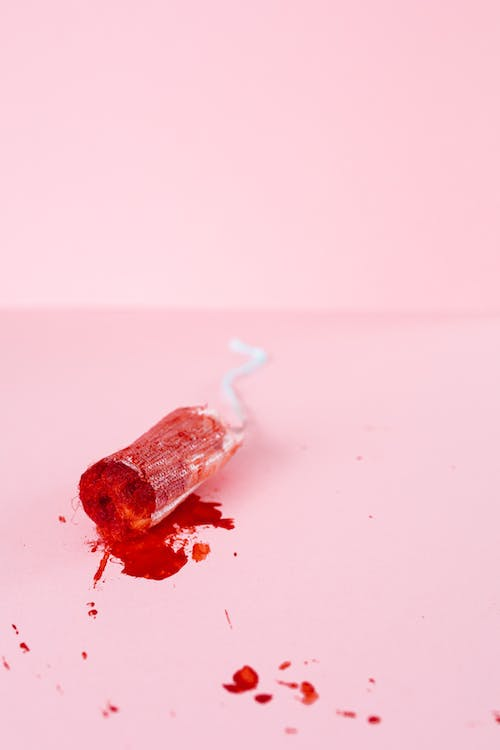blood: (0, 489, 500, 750), (73, 401, 246, 543)
